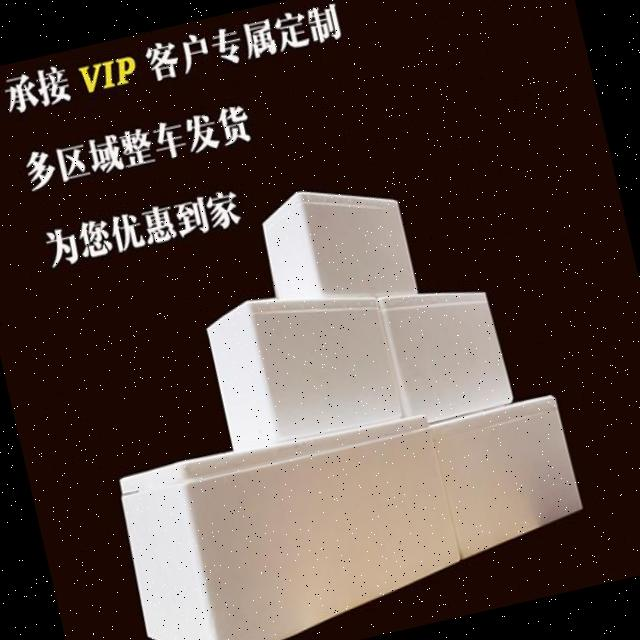styrofoam: (53, 141, 599, 640)
